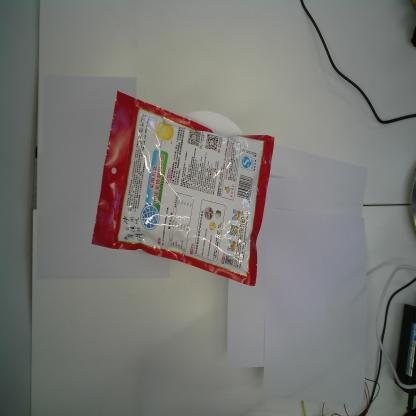Instant Drink: (91, 89, 276, 287)
